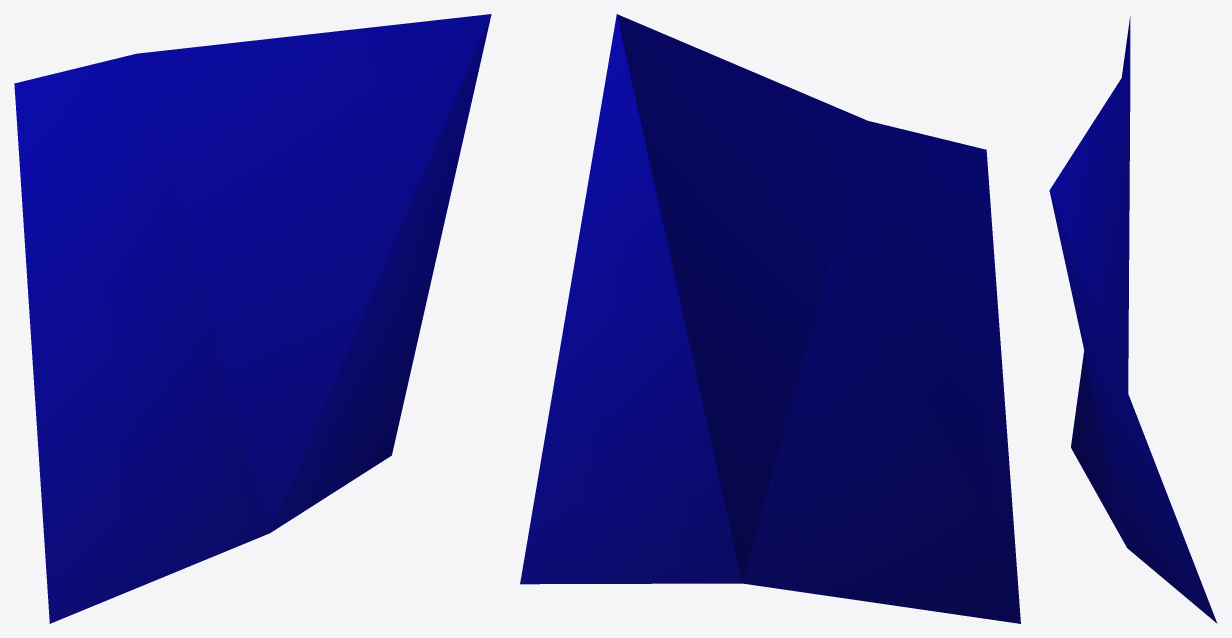
The model's file is Grass and Flowers.fbx.
3 views of the same model, side by side, from view 1: azimuth 30°, elevation 25°; view 2: azimuth 150°, elevation 25°; view 3: azimuth 270°, elevation 25° (orthographic). The views are drawn at different scales.
Parts seen in each view (by area): view 1: Mesh; view 2: Mesh; view 3: Mesh.
Part boxes in pixels (bbox=[...]): Mesh: bbox=[14, 14, 491, 623]; Mesh: bbox=[520, 14, 1020, 623]; Mesh: bbox=[1049, 16, 1217, 623].
Bounding box in the file's own units: 54.24 × 62.15 × 21.83.
